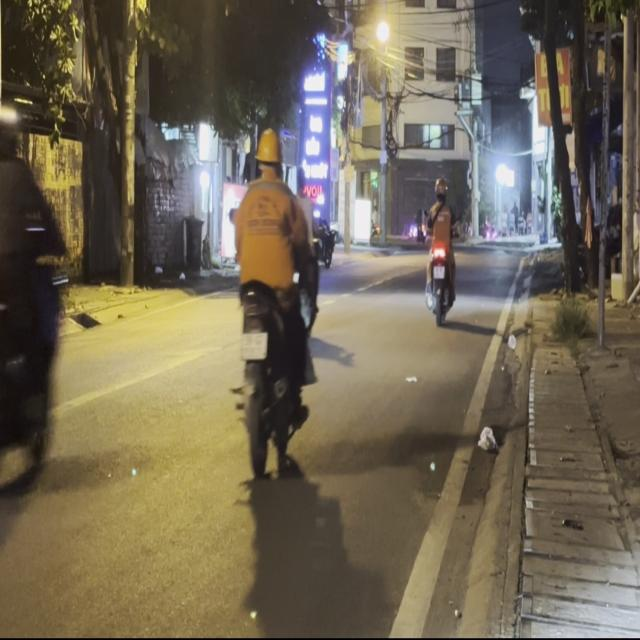helmet: (0, 98, 22, 159), (255, 127, 281, 175)
licenseplate: (228, 124, 320, 473), (0, 94, 69, 507)
nohelmet: (240, 330, 266, 357)
